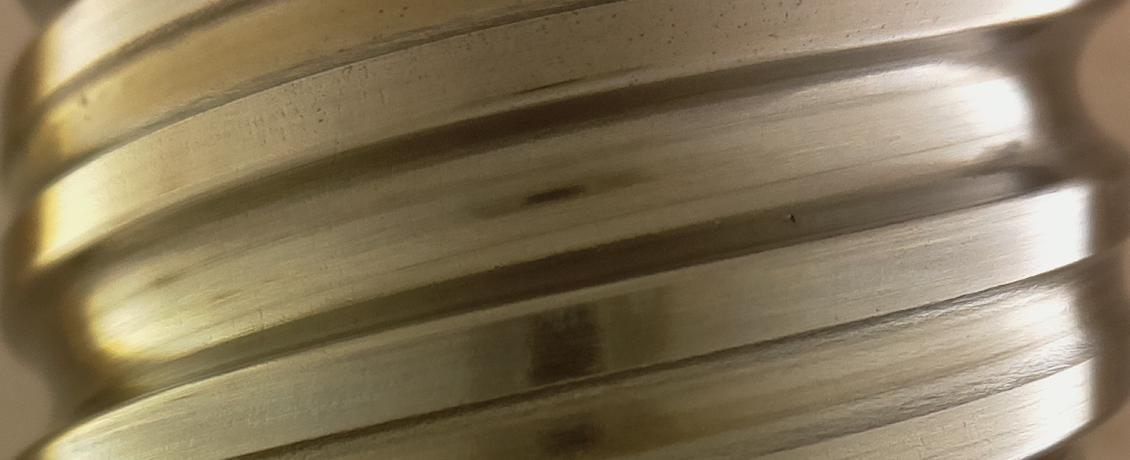pitting: (789, 212, 796, 224)
